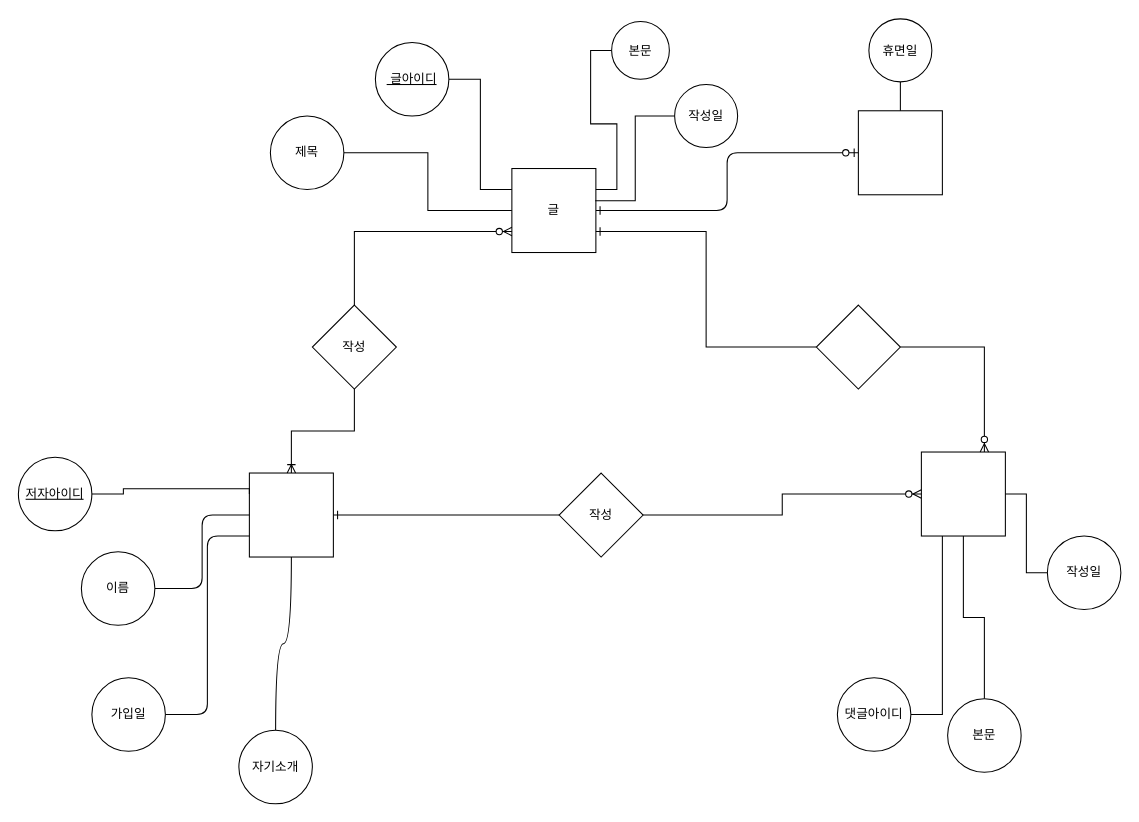
Some shapes in this 1139 by 822 pixel diagram are drawn without their labels. The shapes that lost their labels are listed below. From the top down, each one's box as (x1, y1, x2, y2) in pixels, then its label:
(857, 110, 942, 195): 휴면자
(815, 304, 900, 389): 소속
(920, 451, 1005, 536): 댓글
(248, 472, 333, 557): 저자
